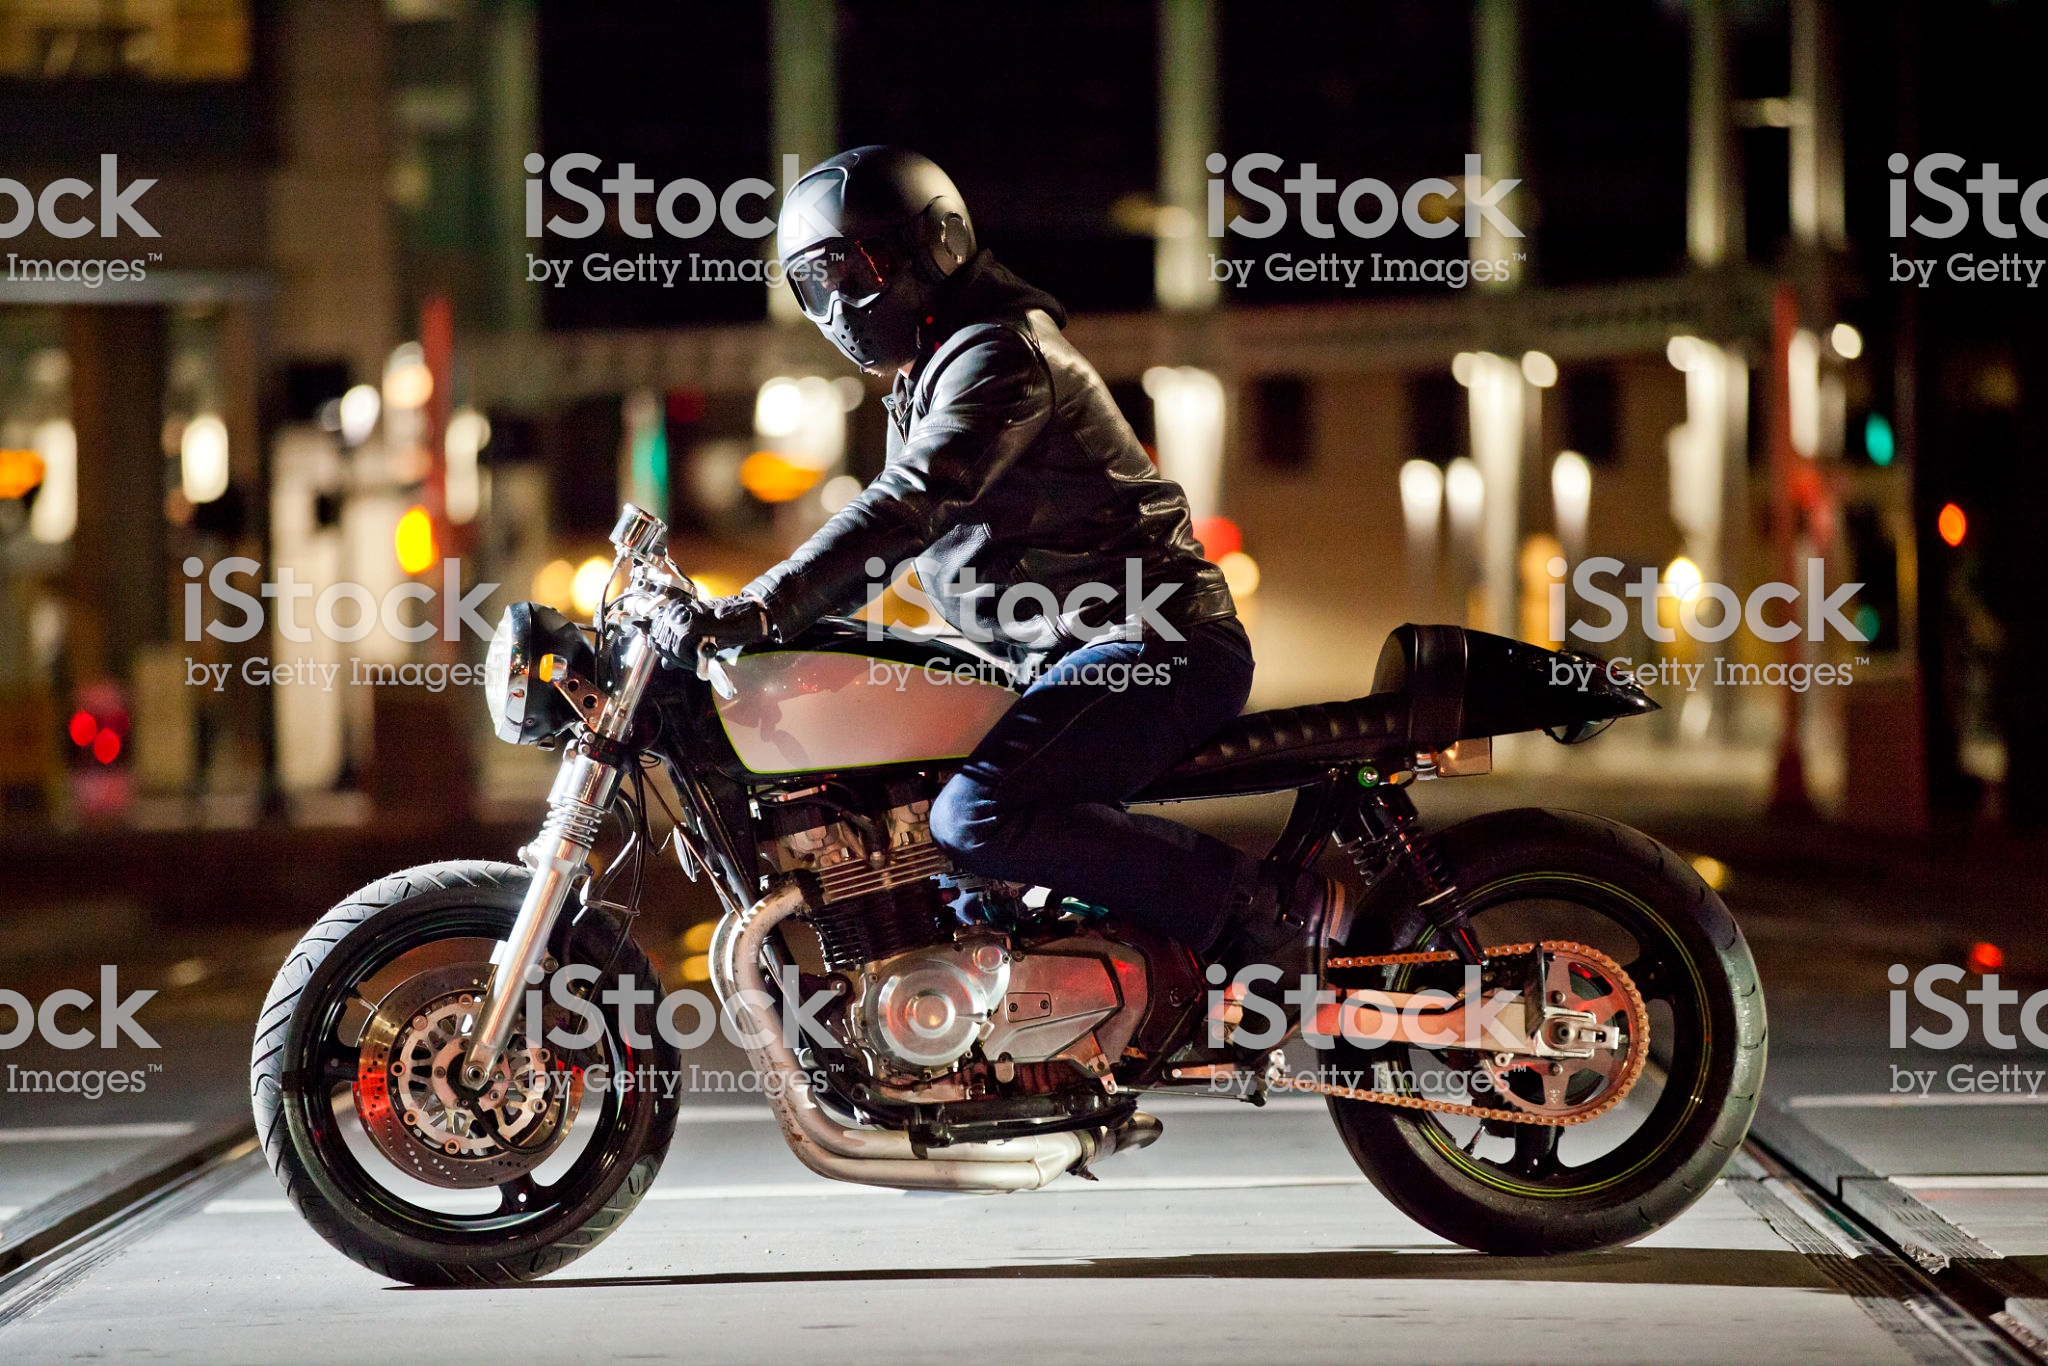helmet: (763, 146, 1000, 361)
